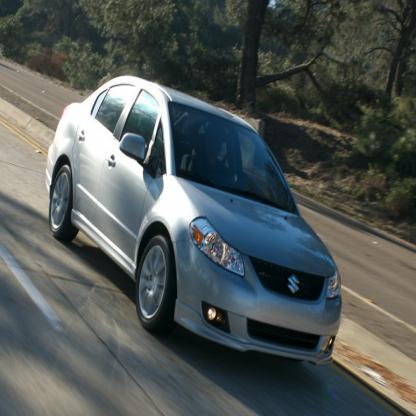Vehicle: (44, 72, 342, 372)
